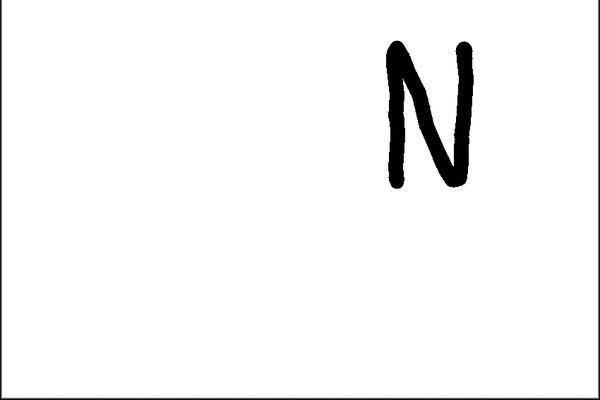N: (374, 30, 479, 218)
